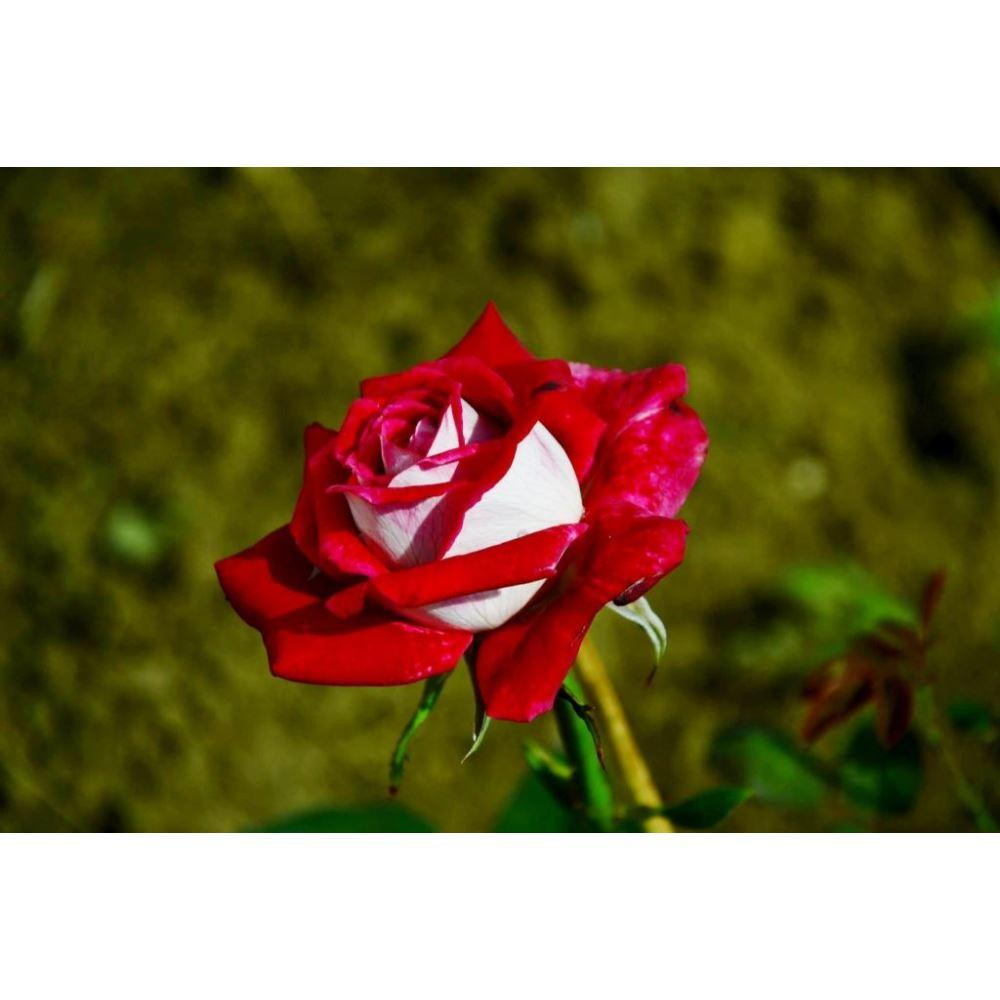Rose: (205, 302, 723, 734)
